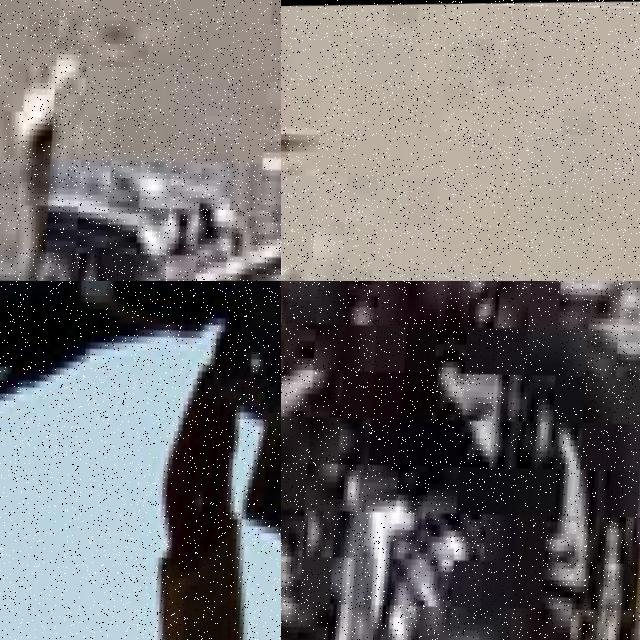0: (281, 281, 640, 640), (281, 0, 640, 281), (0, 0, 281, 281)
drone: (0, 281, 281, 640)
